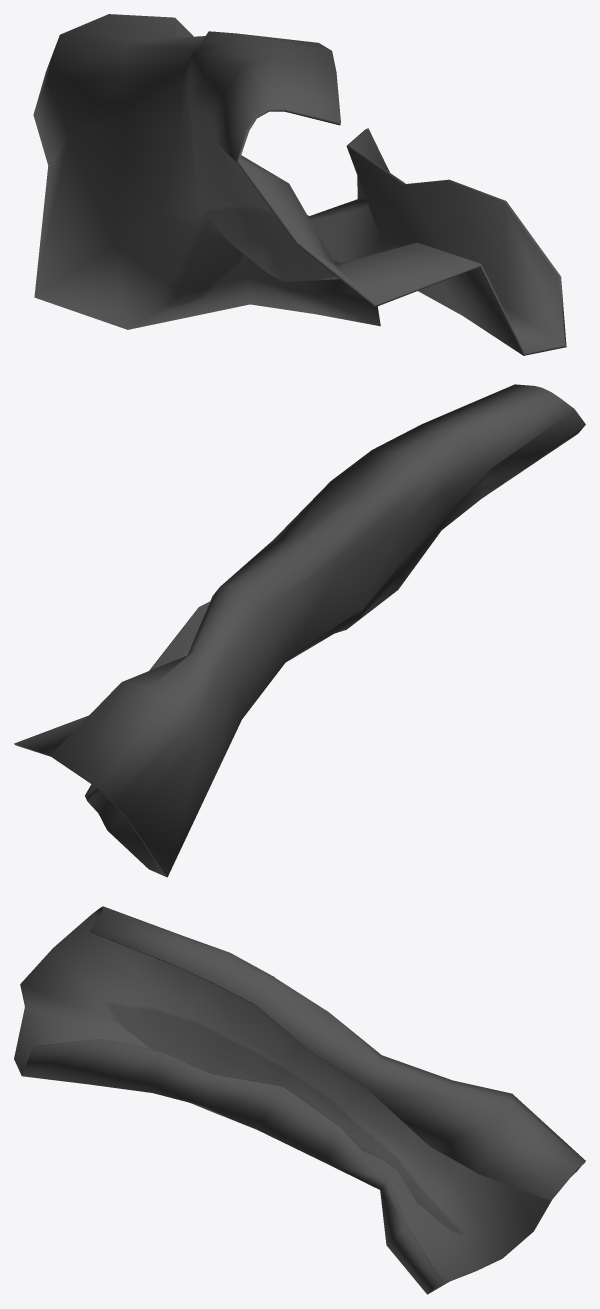
Rendered from clothInHand.fbx.
3 renders of one model, top to bottom at view 1: azimuth 30°, elevation 25°; view 2: azimuth 150°, elevation 25°; view 3: azimuth 270°, elevation 25°, orthographic. The views are drawn at different scales.
Parts seen in each view (by area): view 1: clothInHand; view 2: clothInHand; view 3: clothInHand.
Boxes of the visible parts, x1,y1,x2,y2 form: clothInHand: (33, 14, 566, 355); clothInHand: (14, 384, 585, 877); clothInHand: (14, 906, 585, 1294).
Bounding box in the file's own units: 0.0892 × 0.1024 × 0.1843.
